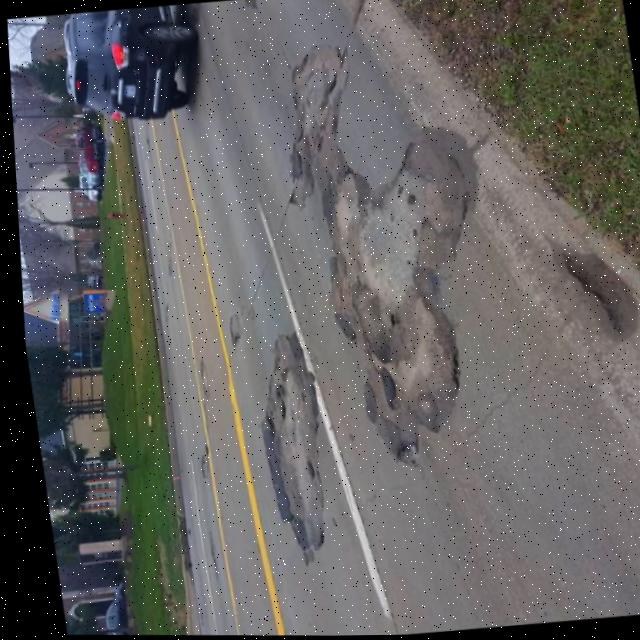Pothole: (297, 156, 481, 309), (233, 332, 334, 551), (343, 309, 476, 431), (272, 40, 359, 174), (538, 248, 634, 349)
